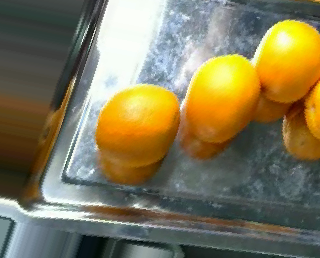Orange: (94, 83, 181, 167), (183, 53, 260, 141), (254, 20, 320, 103)
